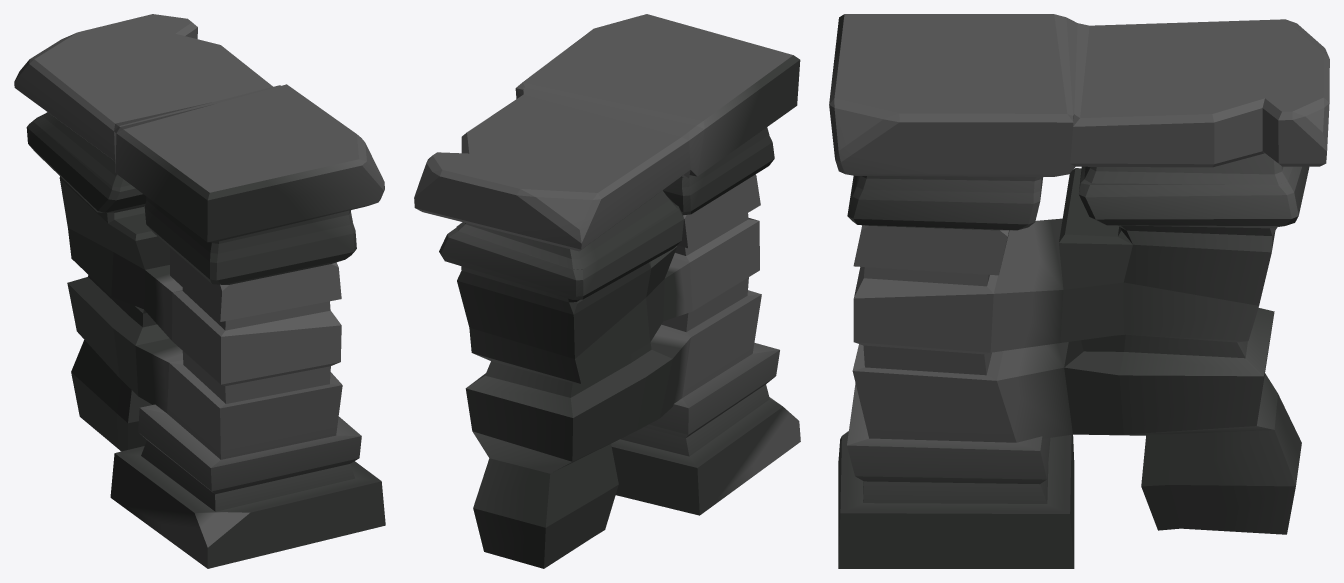
Rendered from stone bridge 2.fbx.
3 views of the same model, side by side, from view 1: azimuth 30°, elevation 25°; view 2: azimuth 150°, elevation 25°; view 3: azimuth 270°, elevation 25° (orthographic). The views are drawn at different scales.
Parts seen in each view (by area): view 1: stonepilar_LOD0; view 2: stonepilar_LOD0; view 3: stonepilar_LOD0.
Boxes of the visible parts, x1=… form: stonepilar_LOD0: x1=14, y1=14, x2=385, y2=568; stonepilar_LOD0: x1=414, y1=14, x2=800, y2=568; stonepilar_LOD0: x1=829, y1=14, x2=1329, y2=568.
Size of what is drawn, in the model's own units: 2 by 4 by 4.
